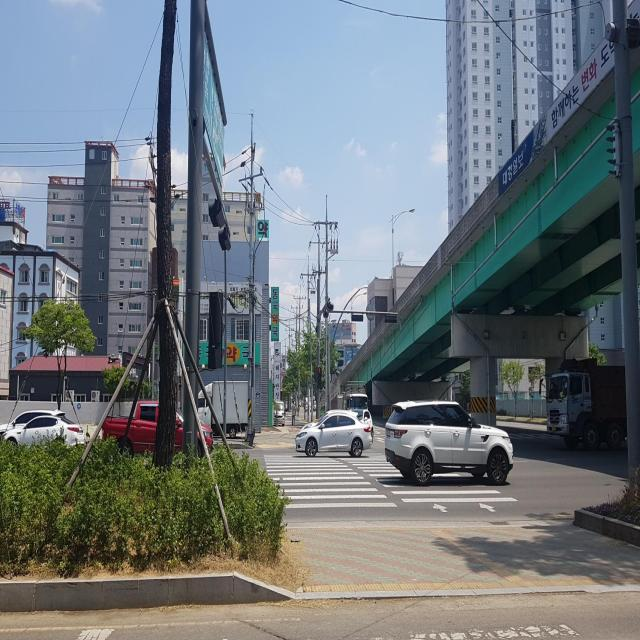횡단보도: (263, 448, 519, 514)
